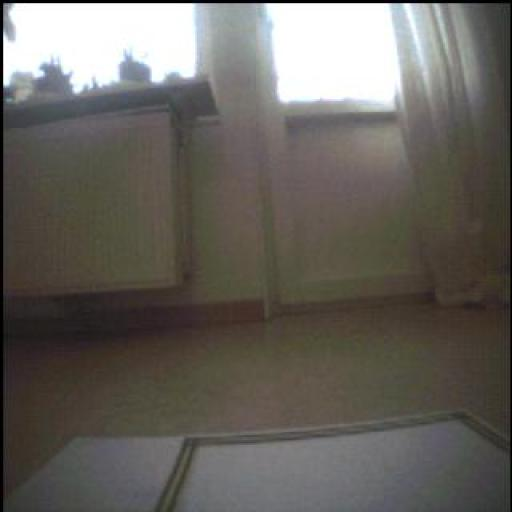Pad: (3, 415, 512, 512)
